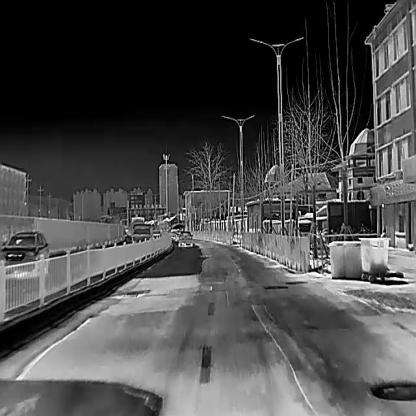car: (0, 230, 48, 277), (131, 223, 151, 243), (178, 230, 193, 245), (152, 230, 161, 239)
